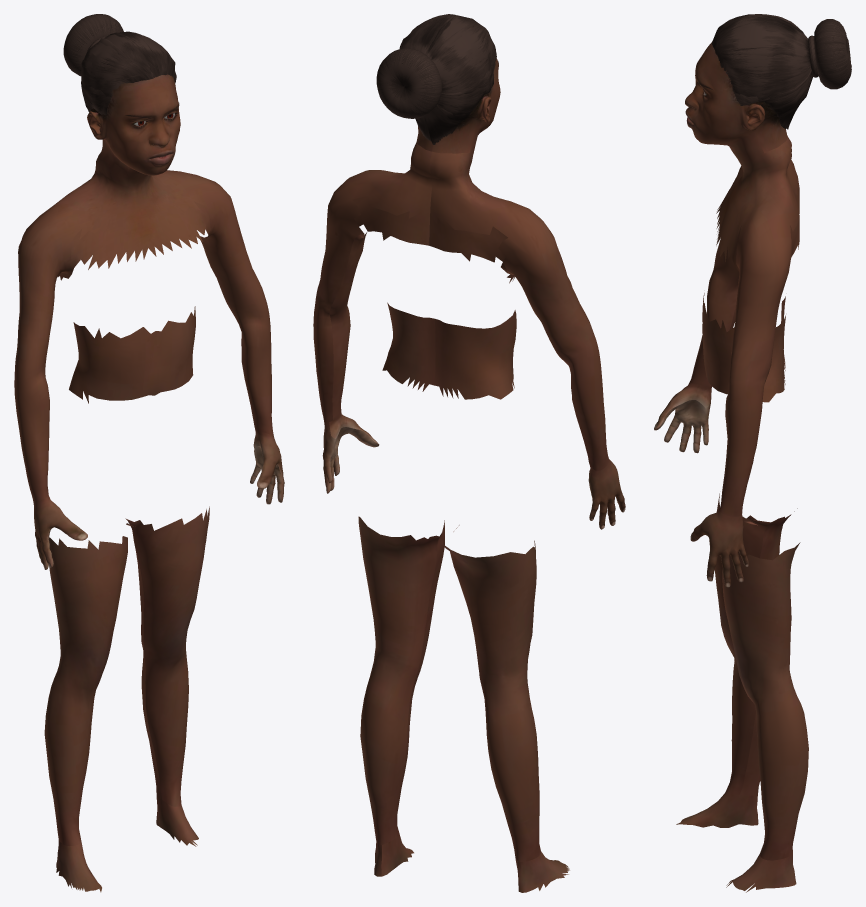
The model's file is streetwaer-humanforge.glb.
3 views of the same model, side by side, from view 1: azimuth 30°, elevation 25°; view 2: azimuth 150°, elevation 25°; view 3: azimuth 270°, elevation 25° (orthographic). The views are drawn at different scales.
Parts seen in each view (by area): view 1: Skin, TorsoUnderOuterwear, hair-rehmanpolanski_hair_bun_brown; view 2: Skin, TorsoUnderOuterwear, hair-rehmanpolanski_hair_bun_brown; view 3: Skin, hair-rehmanpolanski_hair_bun_brown, TorsoUnderOuterwear.
Boxes of the visible parts, <box> form: Skin: <box>14,74,284,892</box>; TorsoUnderOuterwear: <box>57,201,210,403</box>; hair-rehmanpolanski_hair_bun_brown: <box>63,14,176,115</box>; Skin: <box>313,58,625,892</box>; TorsoUnderOuterwear: <box>352,196,516,399</box>; hair-rehmanpolanski_hair_bun_brown: <box>376,14,496,144</box>; Skin: <box>654,42,808,892</box>; hair-rehmanpolanski_hair_bun_brown: <box>712,14,851,129</box>; TorsoUnderOuterwear: <box>702,169,799,402</box>.
Size of the model in its own units: 1.08 by 3.21 by 0.682.
Materials: 7 (7 with a texture image).
